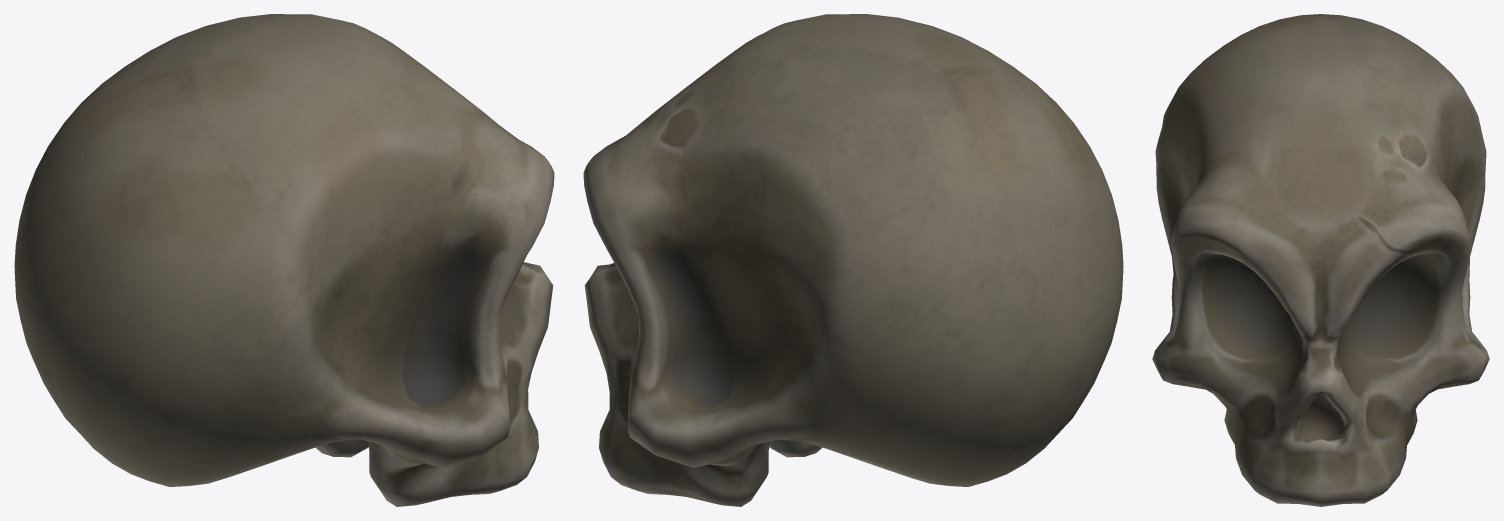
The model's file is Skull_A.fbx.
3 views of the same model, side by side, from view 1: azimuth 30°, elevation 25°; view 2: azimuth 150°, elevation 25°; view 3: azimuth 270°, elevation 25° (orthographic). The views are drawn at different scales.
Visible parts, largest first — view 1: Skull_A; view 2: Skull_A; view 3: Skull_A.
Part boxes in pixels (x1,y1,x2,y2): Skull_A: [14, 14, 554, 506]; Skull_A: [583, 14, 1123, 506]; Skull_A: [1152, 14, 1489, 506].
Size of the model in its own units: 262 by 237 by 191.
